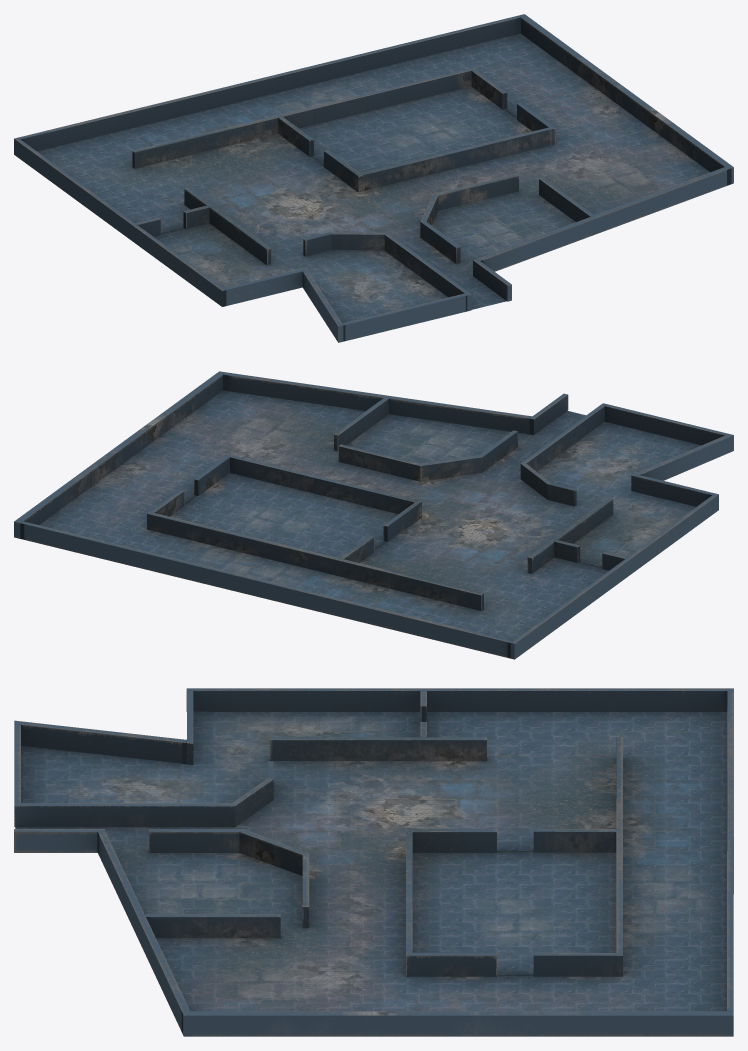
File: wallandground.fbx
3 views of the same model, one above another, from view 1: azimuth 30°, elevation 25°; view 2: azimuth 150°, elevation 25°; view 3: azimuth 270°, elevation 25° (orthographic). The views are drawn at different scales.
Parts seen in each view (by area): view 1: polySurface127, polySurface128; view 2: polySurface127, polySurface128; view 3: polySurface127, polySurface128.
Boxes of the visible parts, x1,y1,x2,y2 form: polySurface127: (37, 33, 709, 323); polySurface128: (14, 14, 733, 342); polySurface127: (39, 390, 701, 640); polySurface128: (14, 371, 733, 659); polySurface127: (15, 712, 727, 1011); polySurface128: (14, 688, 733, 1036).
Size of the model in its own units: 1781 by 53.77 by 1656.
1 material, 1 textured.
